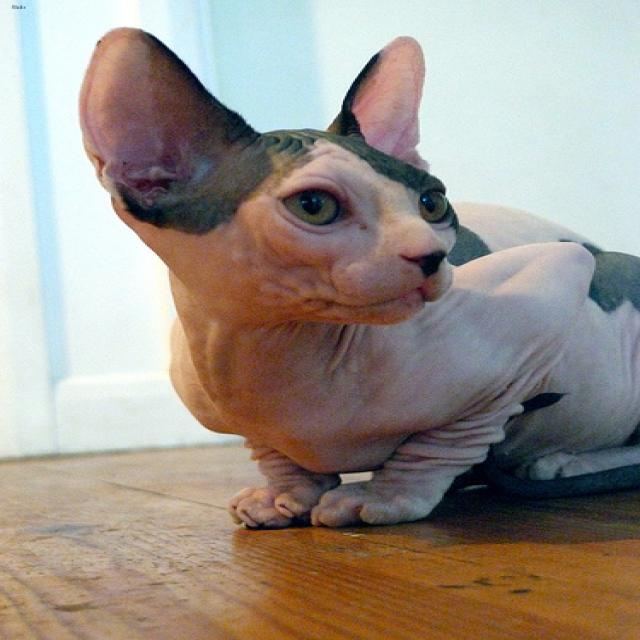cat: (78, 25, 456, 324)
